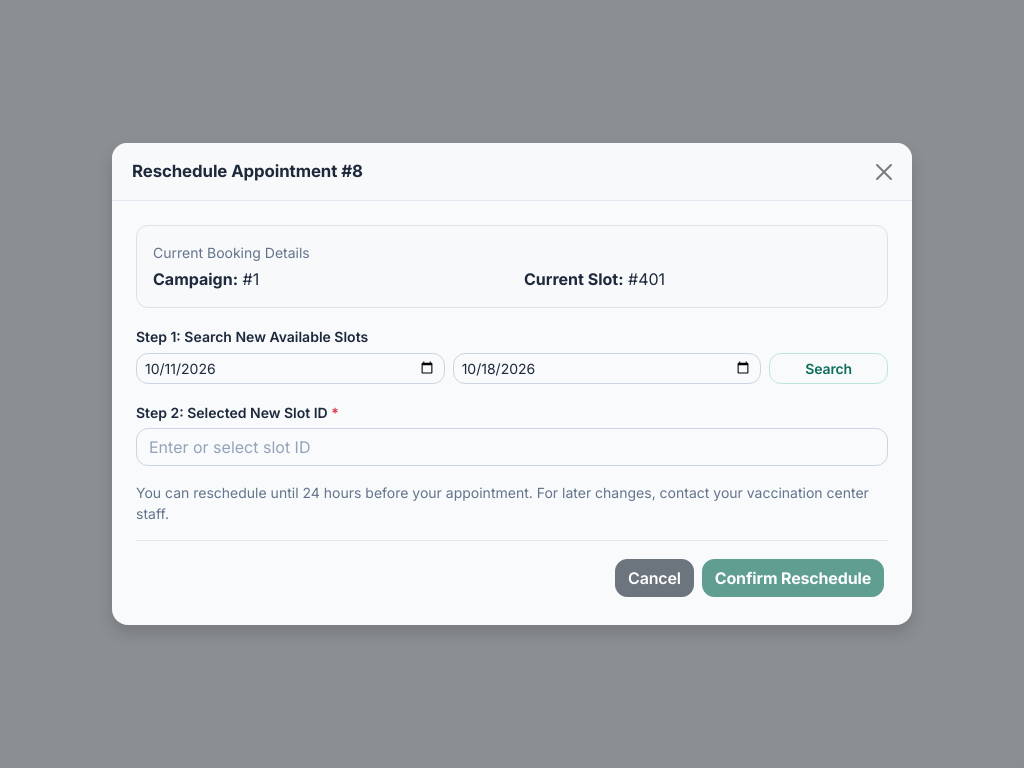
Test case: directs a rejected late reschedule to center staff
Type "502" into the number field at (512, 447), box [136,428,888,466]
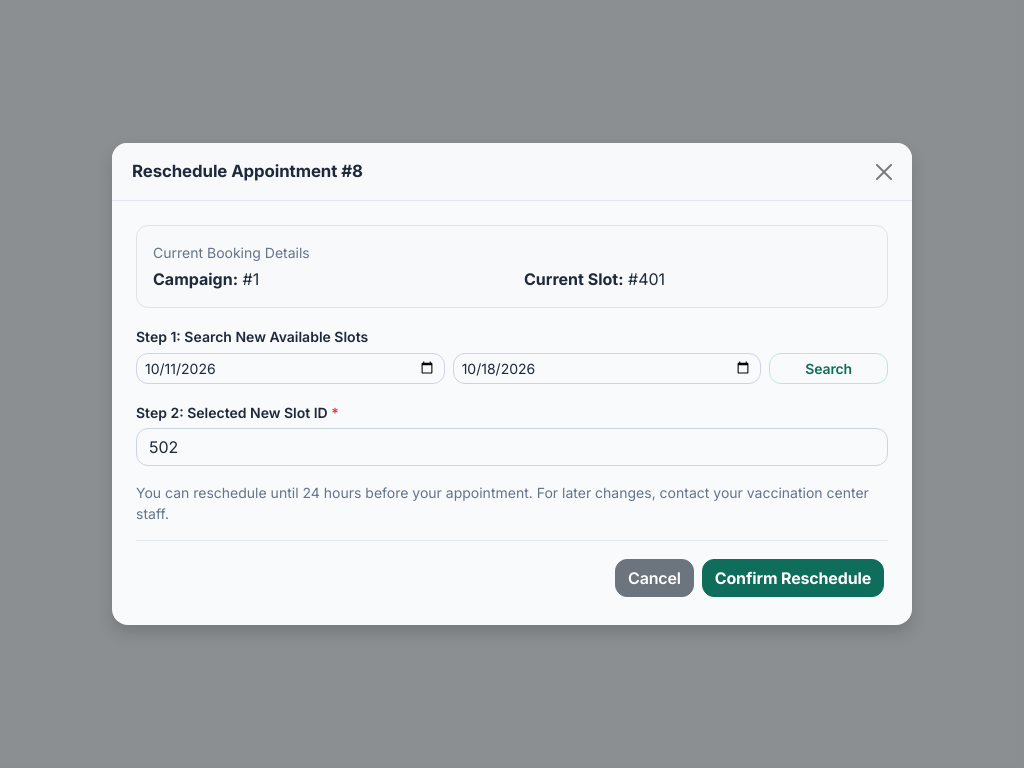
Click the button "Confirm Reschedule" at (793, 578), box [702,559,884,597]
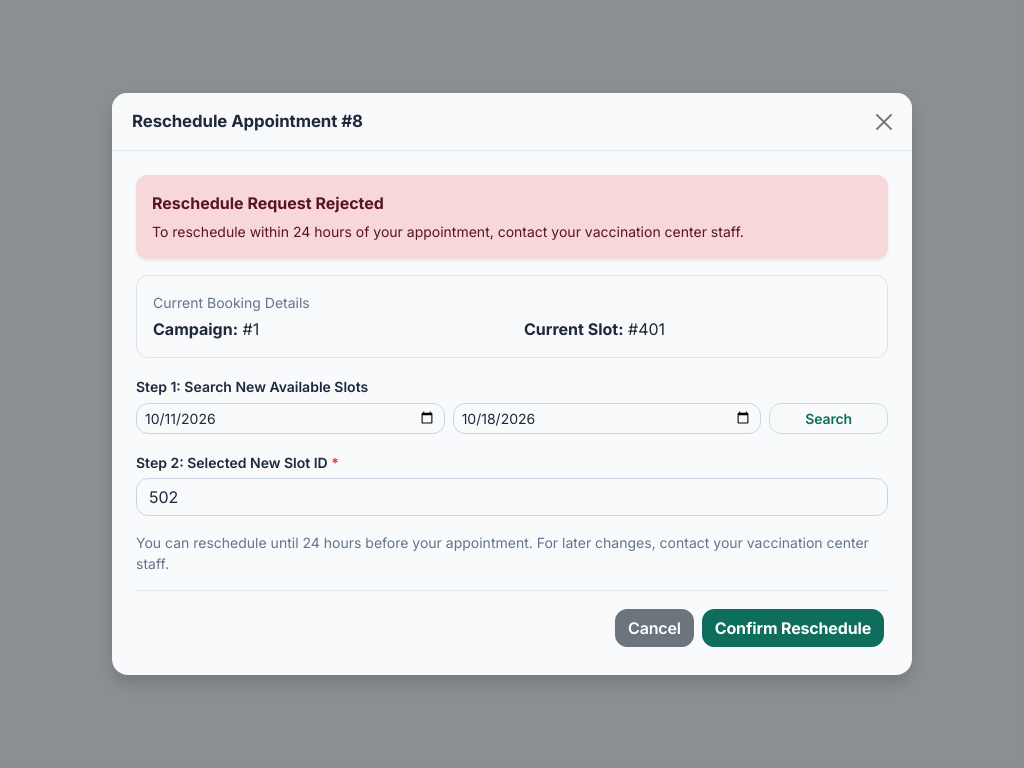
Expected: the text "To reschedule within 24 hours of your appointment, contact your vaccination center staff." is shown, [152,223,744,240]
